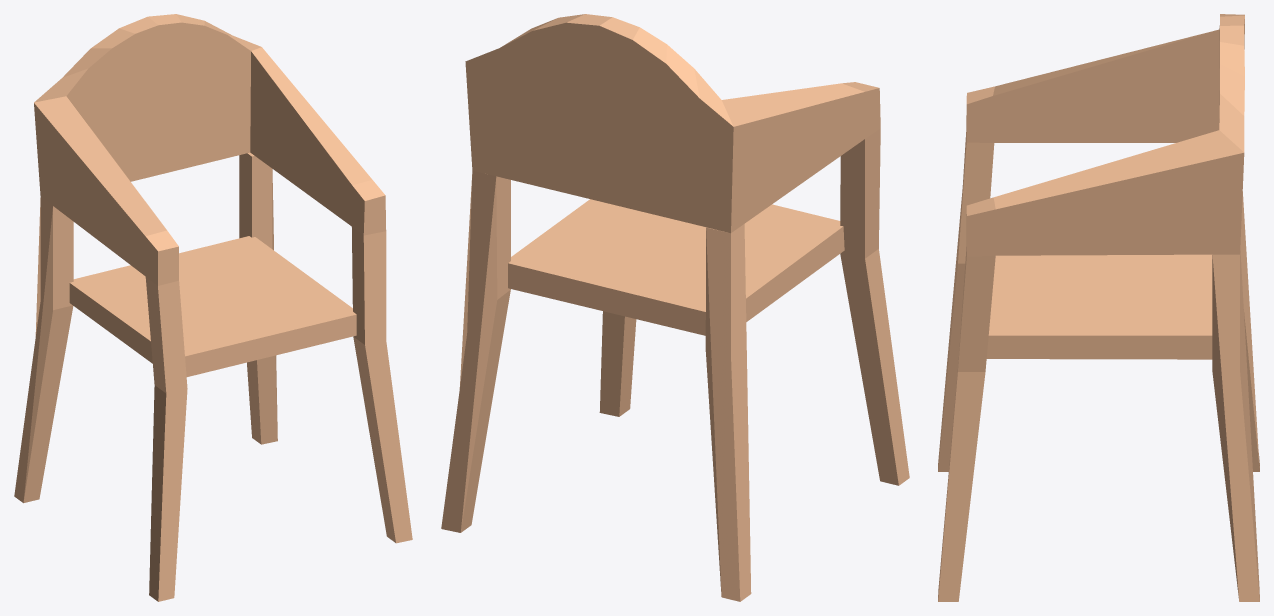
File: chair.fbx
3 renders of one model, left to right at view 1: azimuth 30°, elevation 25°; view 2: azimuth 150°, elevation 25°; view 3: azimuth 270°, elevation 25°, orthographic. The views are drawn at different scales.
Parts seen in each view (by area): view 1: chair; view 2: chair; view 3: chair.
Part boxes in pixels (box(x1,y1,x2,y2)): chair: box(14, 14, 412, 601); chair: box(441, 14, 909, 601); chair: box(938, 14, 1259, 601).
Bounding box in the file's own units: 45.1 × 76.92 × 44.25.
